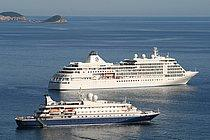Ship: (48, 50, 202, 92), (11, 94, 172, 131)
